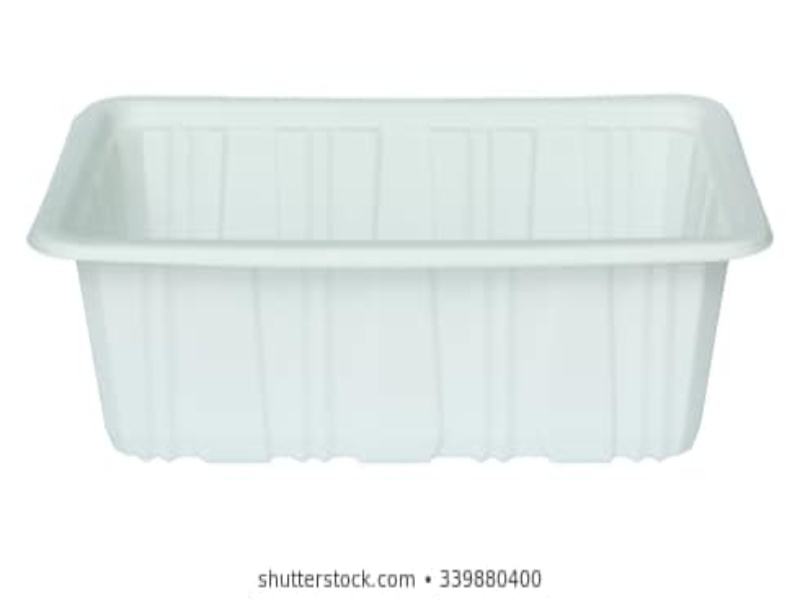plastic-container: (27, 92, 773, 467)
